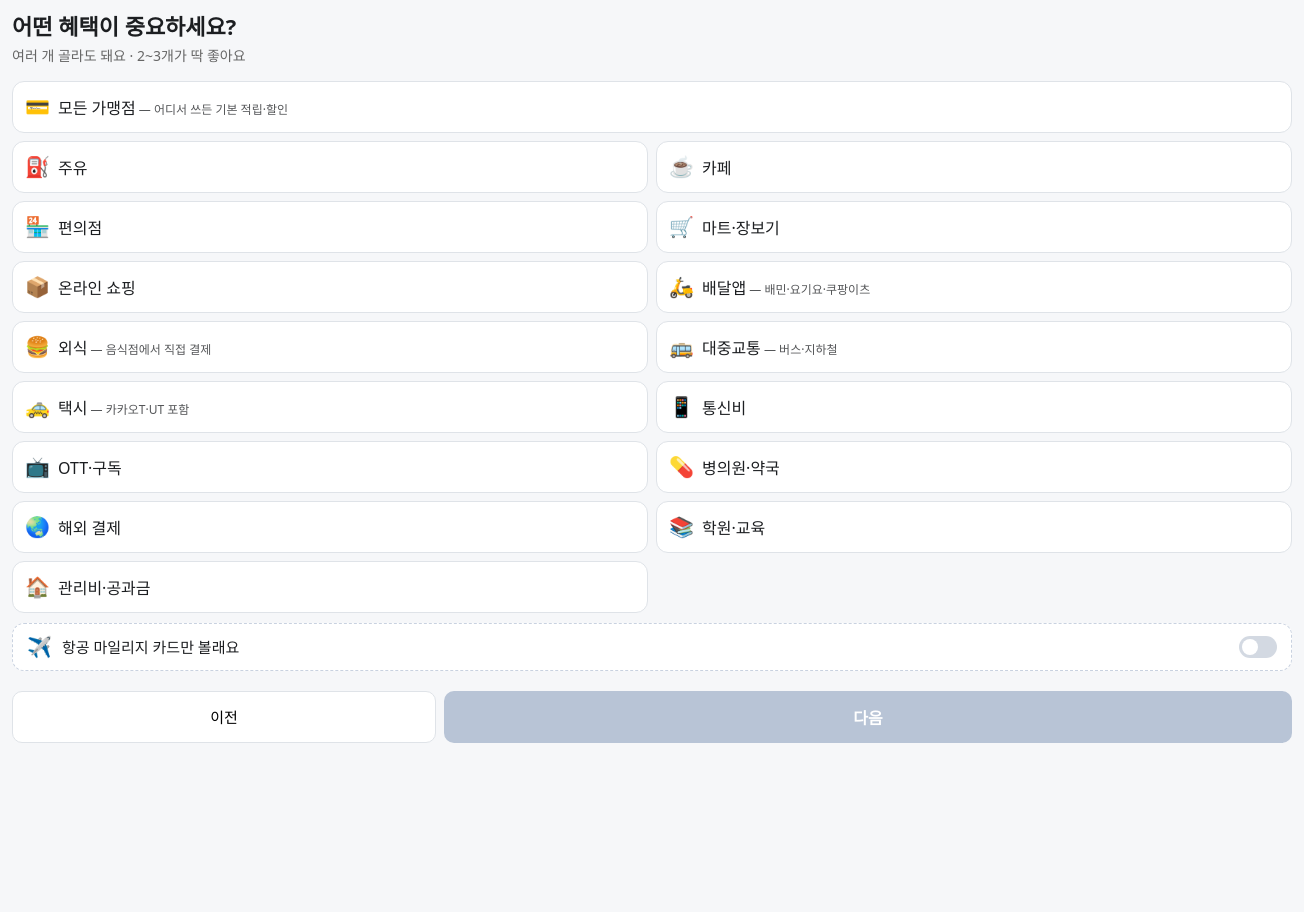
Test: 마일리지는 다른 태그와 섞을 수 없다 › 마일리지를 누르면 다른 태그가 해제되고 힌트가 뜬다
Click the button "⛽ 주유": (37,166) [12,141,648,193]
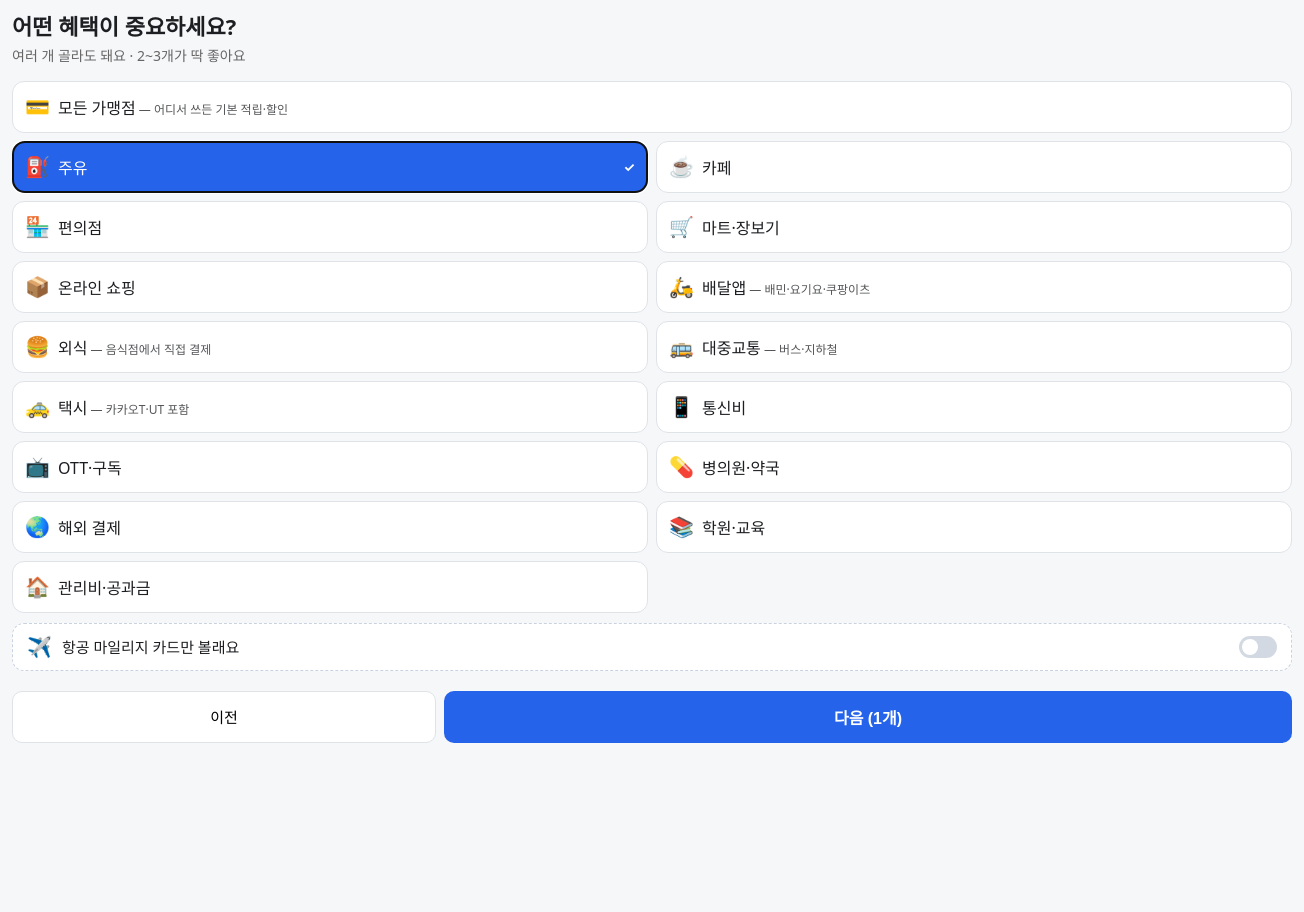
Click the button "✈️ 항공 마일리지 카드만 볼래요": (151,647) [12,623,1292,671]
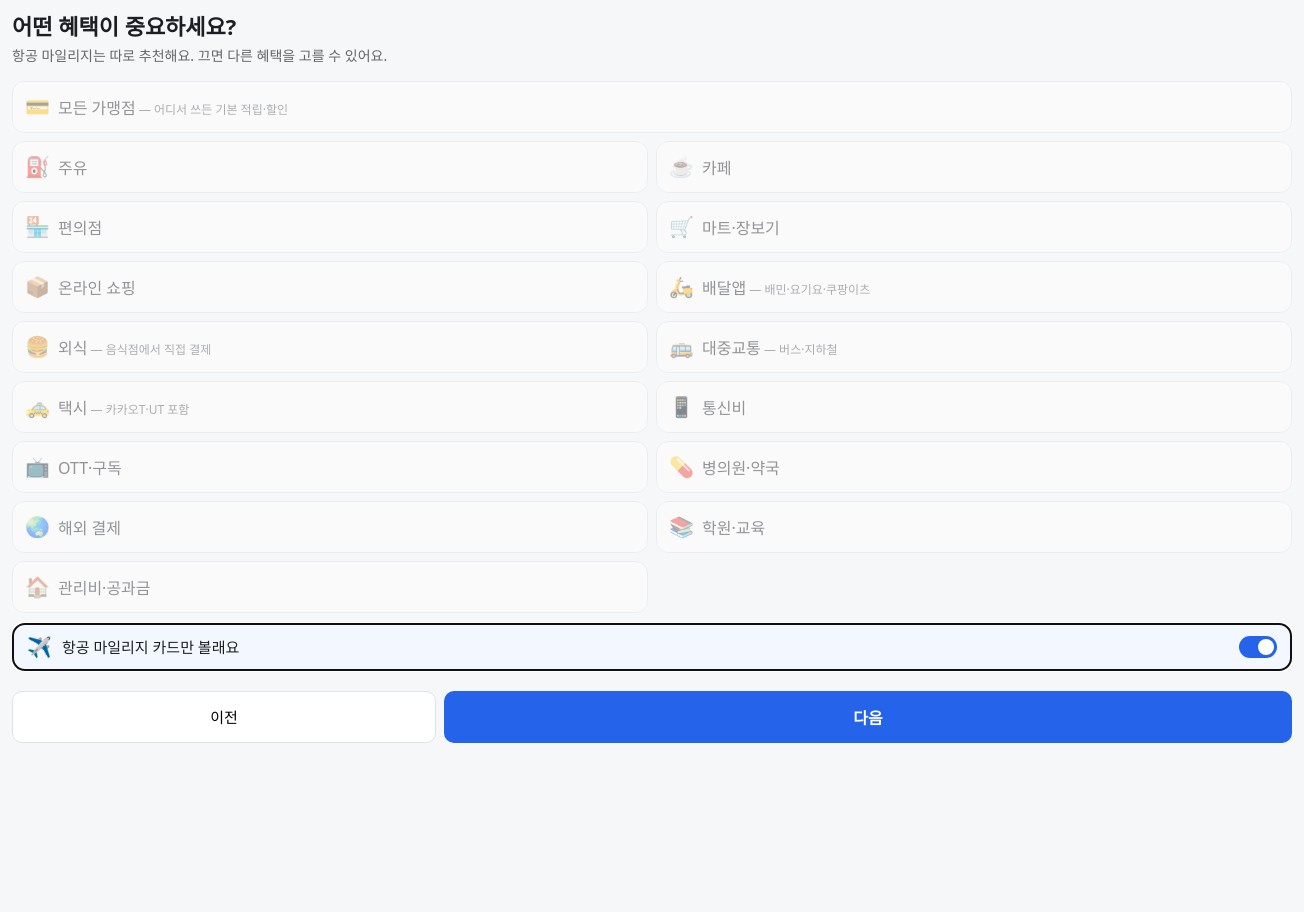
Expected: the text "항공 마일리지는 따로 추천해요. 끄면 다른 혜택을 고를 수 있어요." is shown, [12,46,387,65]
